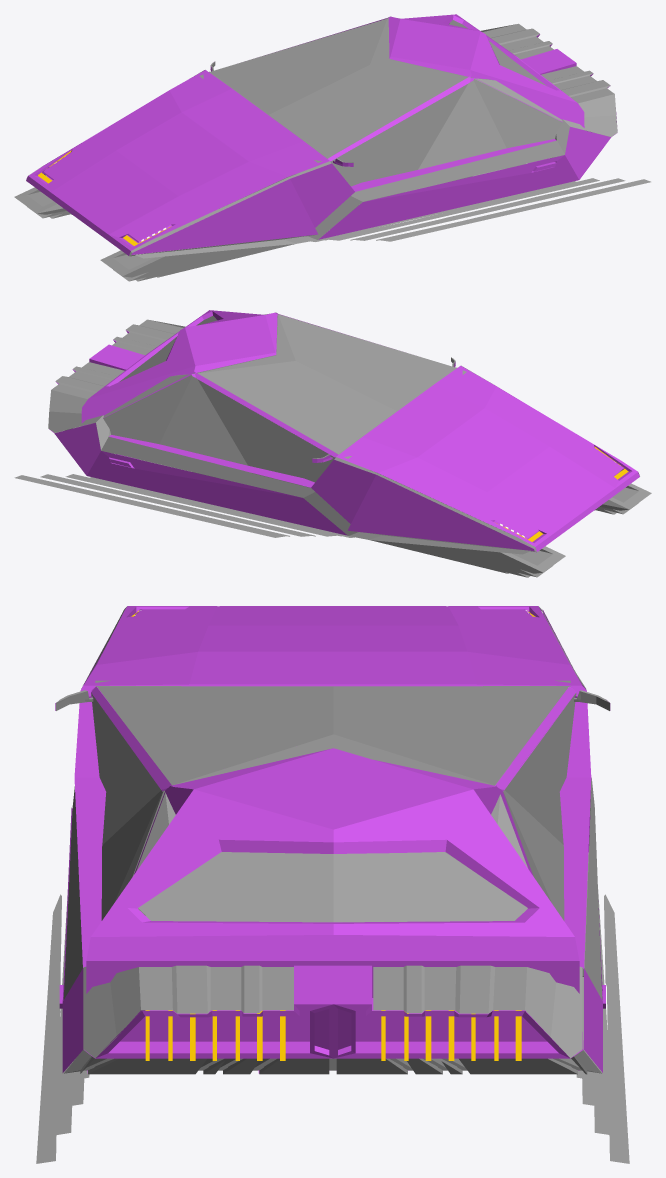
Rendered from car.glb.
3 views of the same model, one above another, from view 1: azimuth 30°, elevation 25°; view 2: azimuth 150°, elevation 25°; view 3: azimuth 270°, elevation 25° (orthographic). The views are drawn at different scales.
Visible parts, largest first — view 1: Object_4, Object_5; view 2: Object_4, Object_5; view 3: Object_4, Object_5, Object_6.
Part boxes in pixels (x1=…): Object_4: x1=26, y1=14, x2=616, y2=255; Object_5: x1=14, y1=17, x2=650, y2=281; Object_4: x1=49, y1=310, x2=639, y2=552; Object_5: x1=14, y1=313, x2=651, y2=577; Object_4: x1=55, y1=606, x2=610, y2=1073; Object_5: x1=36, y1=607, x2=629, y2=1163; Object_6: x1=131, y1=610, x2=535, y2=1060.
Bounding box in the file's own units: 11.95 × 2.84 × 6.03.
